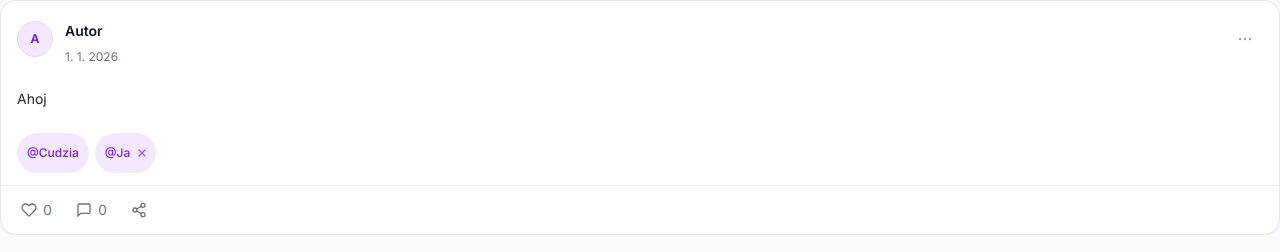
it: offers deleting only when the backend says the viewer manages the post
Step 1. Click the button with test id "feed-post-menu-trigger" → (1245, 39), box [1227, 21, 1263, 57]
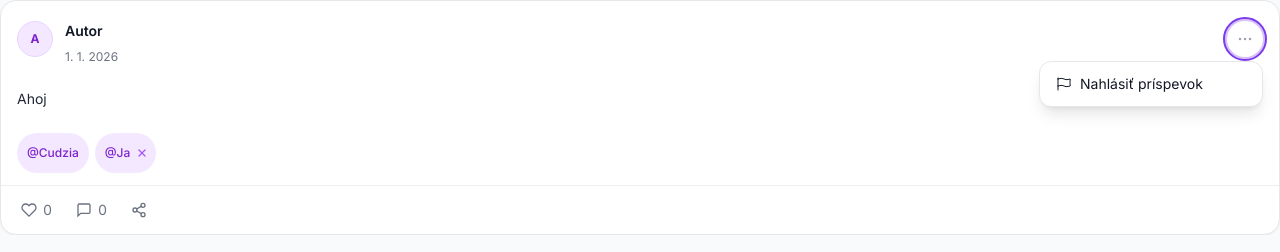
Expected: the menu with test id "feed-post-menu" reads "Nahlásiť príspevok", [1040, 62, 1262, 106]
